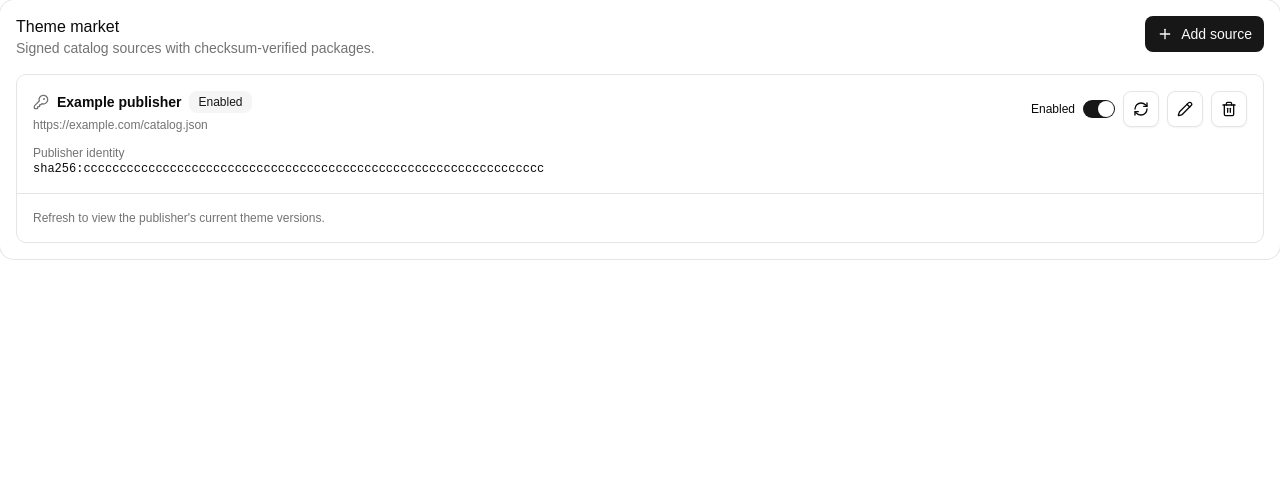
Test: verified theme market › keeps the selected entry after 409 and requires refresh before selecting again
The image size is (1280, 499).
Click the button named "Refresh catalog".
click(1141, 109)  # box [1123,91,1159,127]
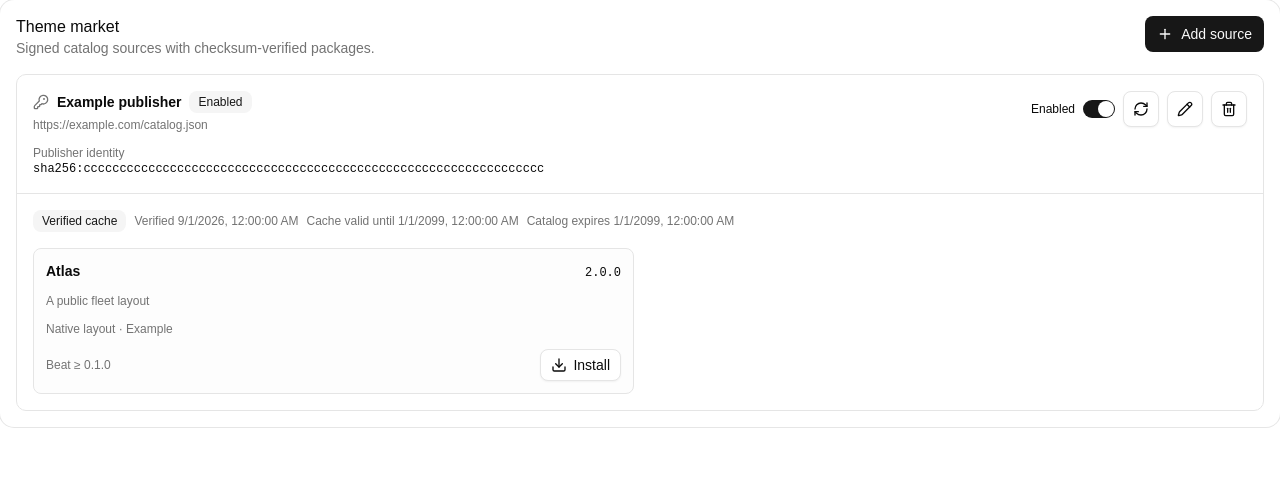
Click the button "Install".
click(581, 365)  # box [540,349,621,381]
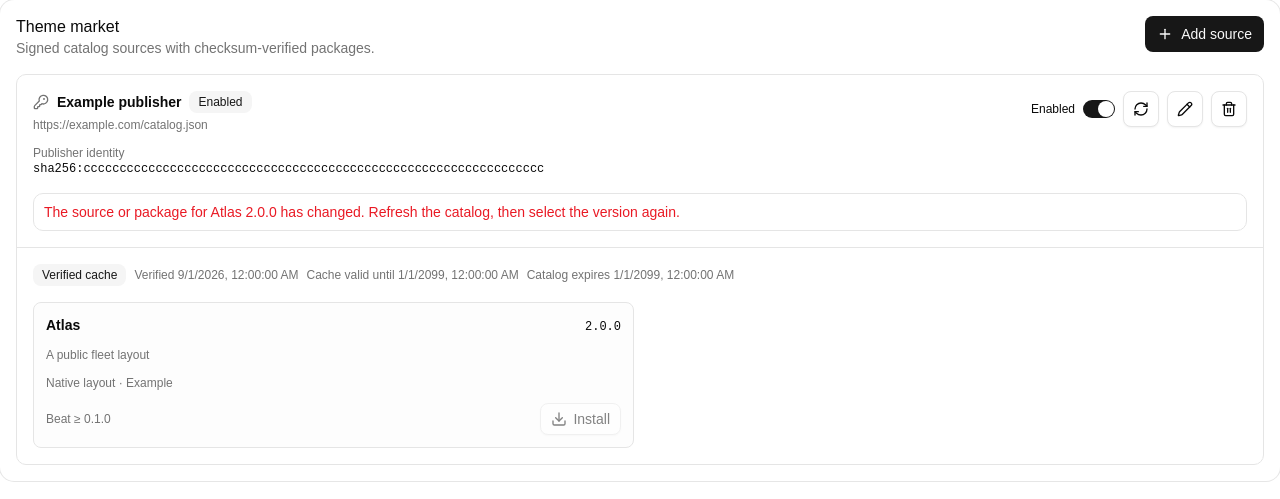
Expected: the heading "Atlas" is shown, [46,315,80,335]
Expected: the text "Atlas 2.0.0 has changed" is shown, [44,204,680,220]
Expected: the button "Install" is disabled, [540,403,621,435]
Click the button named "Refresh catalog".
click(1141, 109)  # box [1123,91,1159,127]
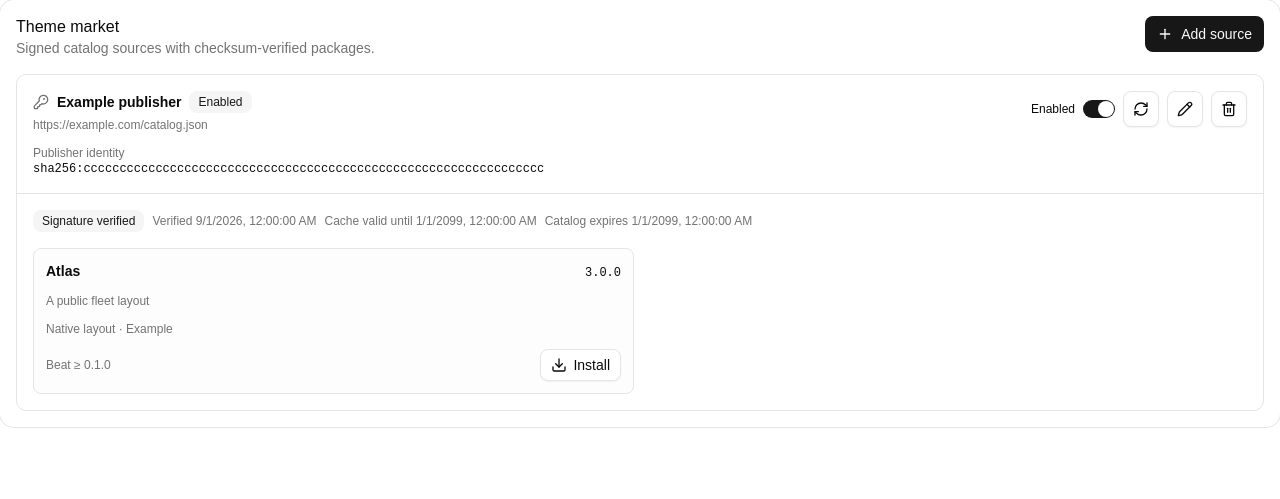
Expected: the text "3.0.0" is shown, [585,265,621,281]
Expected: the button "Install" is enabled, [540,349,621,381]
Expected: the text "has changed" is gone
